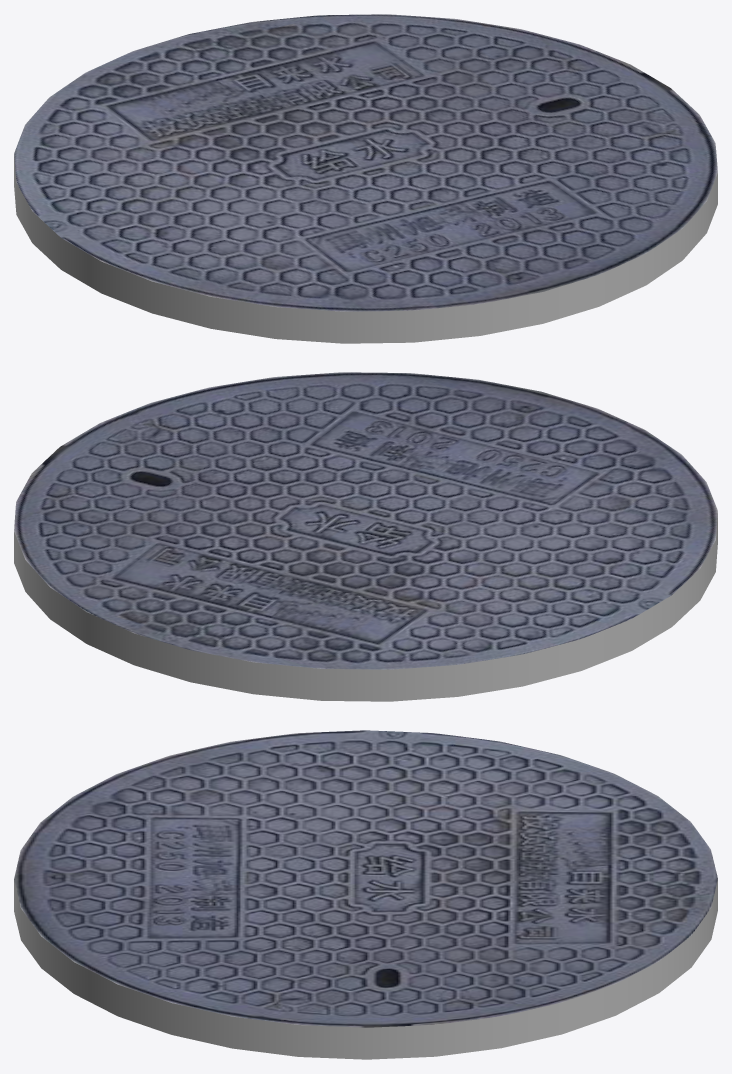
The picture shows the model from 3 angles, top to bottom: view 1: azimuth 30°, elevation 25°; view 2: azimuth 150°, elevation 25°; view 3: azimuth 270°, elevation 25°; orthographic projection.
Visible parts, largest first — view 1: 535000_1; view 2: 535000_1; view 3: 535000_1.
Boxes of the visible parts, x1,y1,x2,y2 form: 535000_1: (14,14,717,343); 535000_1: (14,372,717,701); 535000_1: (14,730,717,1059).
Size of the model in its own units: 1 by 0.05 by 1.
2 materials, 1 textured.
